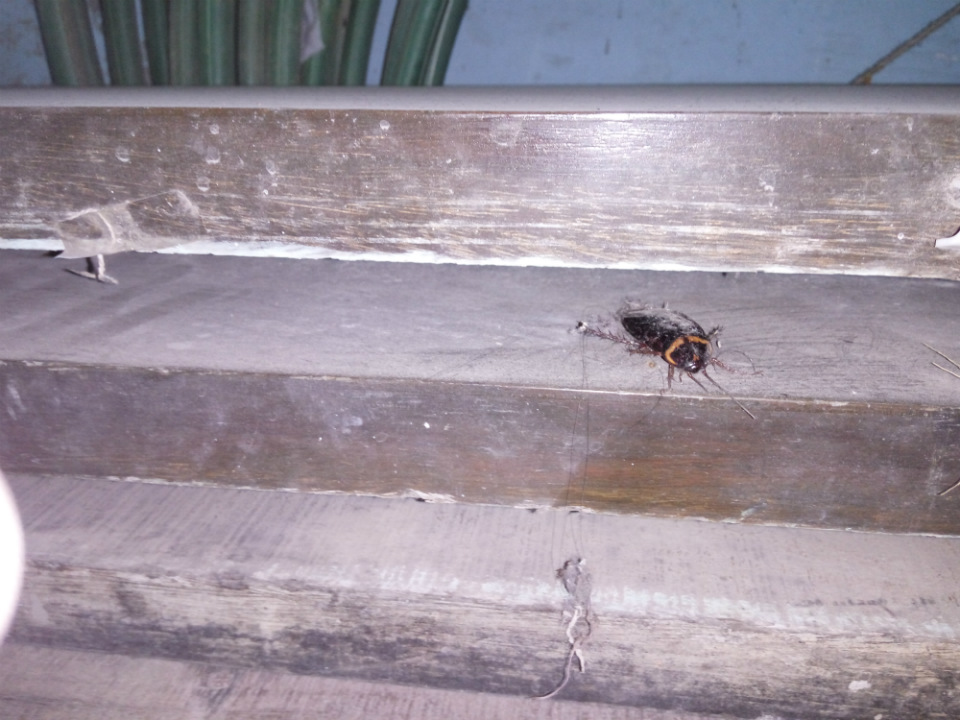cockroach: (530, 287, 814, 421)
